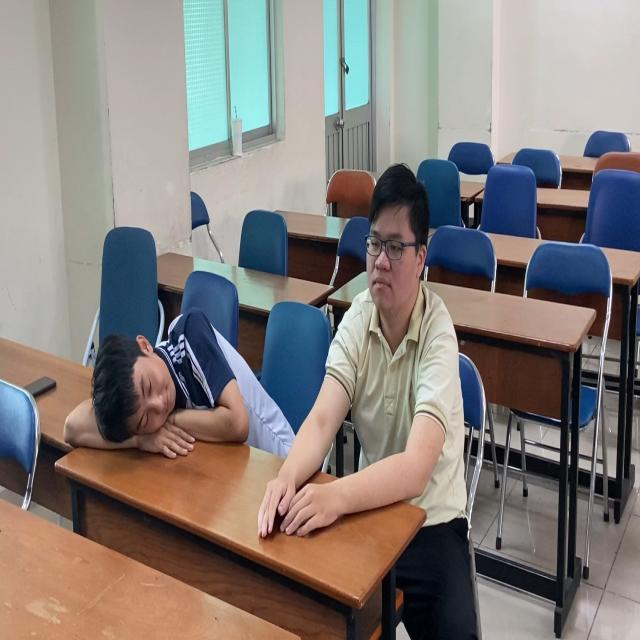sleep: (51, 303, 280, 467)
